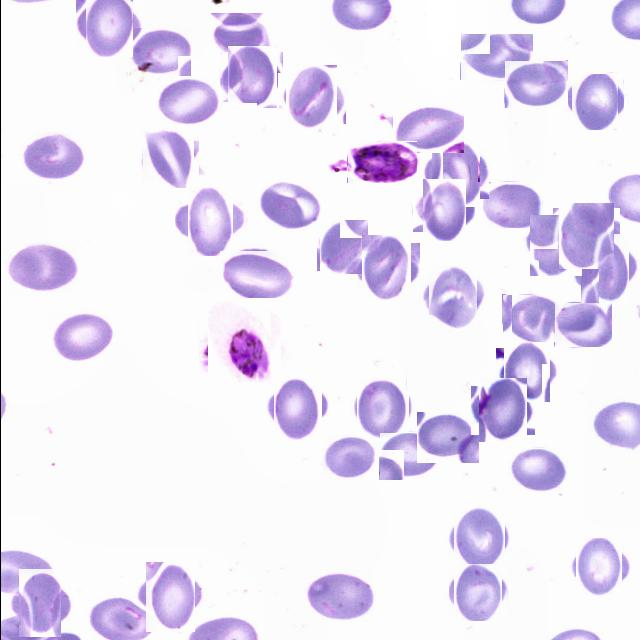red blood cell: (4, 240, 77, 292), (555, 205, 616, 266), (218, 250, 294, 298), (139, 567, 199, 627), (575, 239, 634, 299), (281, 69, 341, 128), (306, 569, 372, 622), (459, 33, 532, 80), (392, 105, 463, 153), (48, 311, 114, 362), (180, 192, 238, 250), (449, 509, 507, 567), (526, 216, 584, 274), (210, 13, 274, 65), (257, 180, 321, 232), (426, 146, 484, 203), (357, 239, 415, 296), (18, 131, 86, 179), (354, 379, 411, 436), (158, 78, 222, 128), (424, 270, 481, 326), (139, 130, 196, 186), (474, 382, 530, 439), (416, 412, 478, 463), (223, 49, 279, 105), (269, 380, 325, 436), (12, 575, 68, 631), (127, 27, 190, 76), (503, 60, 567, 108), (79, 0, 136, 53), (378, 432, 440, 480), (501, 294, 562, 342), (499, 344, 553, 398), (572, 540, 625, 594), (568, 75, 620, 128), (416, 184, 469, 236), (451, 566, 504, 618), (482, 182, 541, 228), (318, 221, 370, 273), (508, 448, 566, 493), (553, 302, 611, 347), (320, 436, 374, 481)
schizont: (346, 141, 416, 183)
trophozoite: (203, 306, 275, 378)
